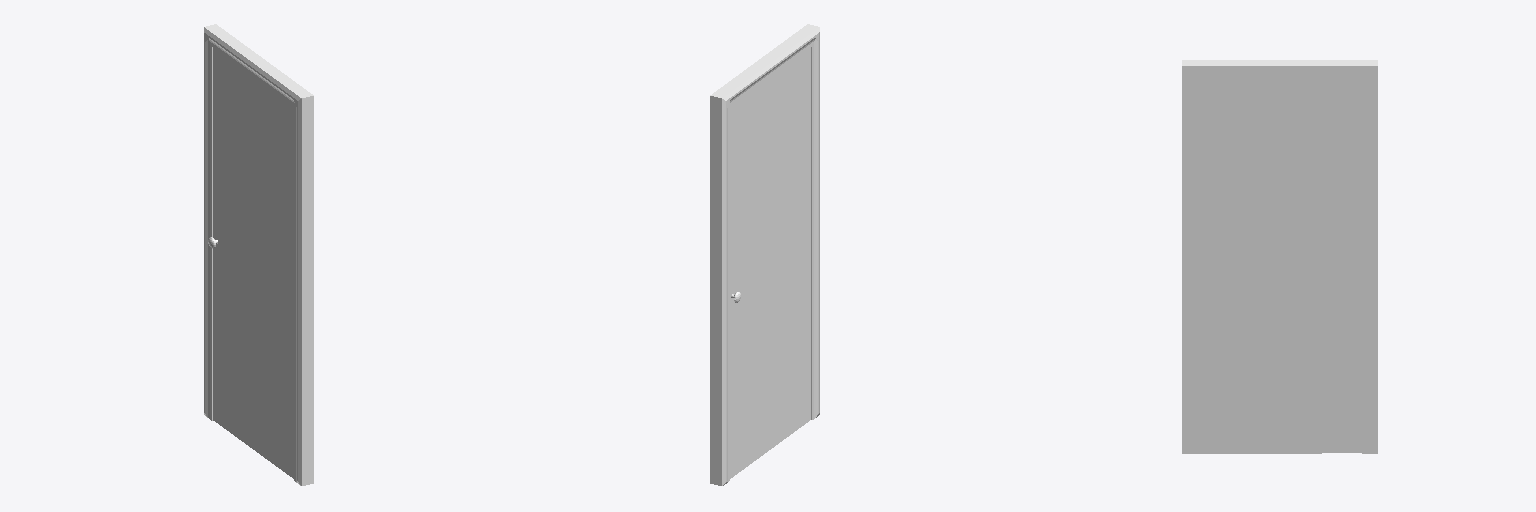
The model's file is portascale.obj.
3 renders of one model, left to right at view 1: azimuth 30°, elevation 25°; view 2: azimuth 150°, elevation 25°; view 3: azimuth 270°, elevation 25°, orthographic.
Parts seen in each view (by area): view 1: Porta_vicino_alle_scale.1; view 2: Porta_vicino_alle_scale.1; view 3: Porta_vicino_alle_scale.1.
Part boxes in pixels (x1,y1,x2,y2): Porta_vicino_alle_scale.1: (204,24,313,485); Porta_vicino_alle_scale.1: (710,24,819,485); Porta_vicino_alle_scale.1: (1182,60,1377,453).
Size of the model in its own units: 10.44 by 214 by 97.41.